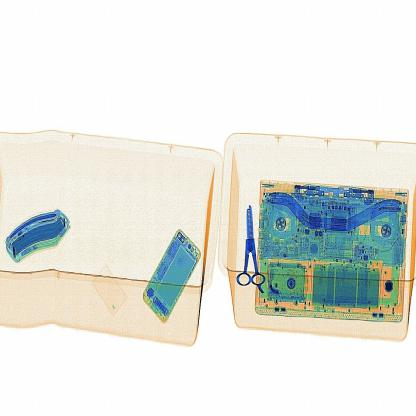gun: (234, 198, 280, 300)
